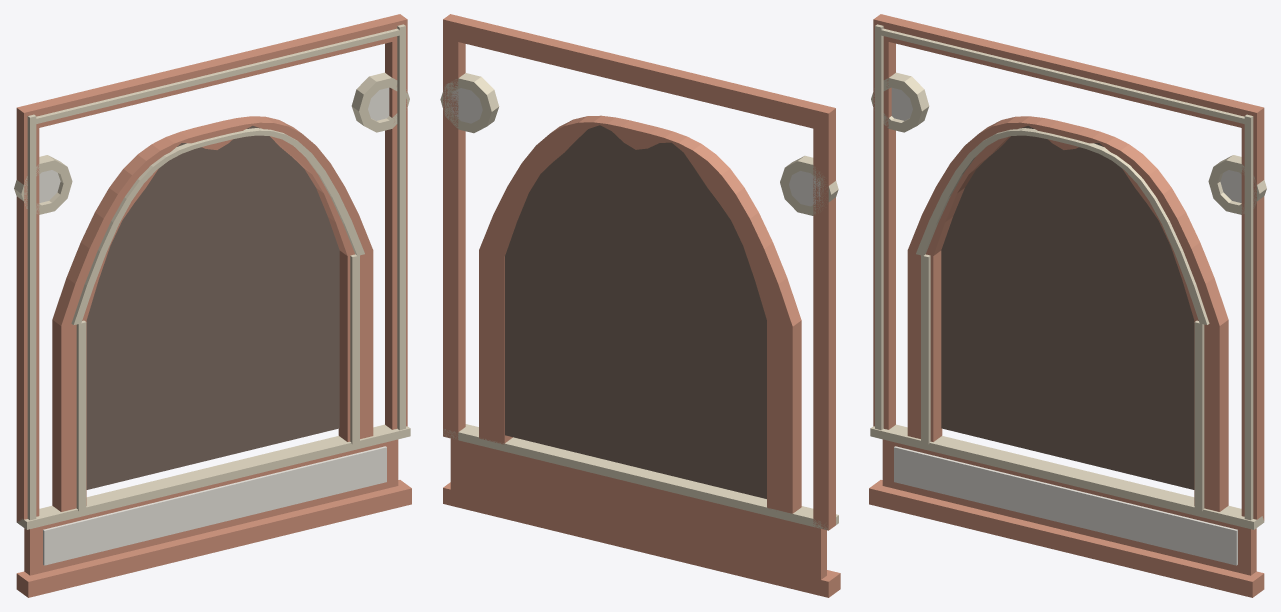
Rendered from kit_niche.glb.
The picture shows the model from 3 angles, left to right: view 1: azimuth 30°, elevation 25°; view 2: azimuth 150°, elevation 25°; view 3: azimuth 330°, elevation 25°; orthographic projection.
Visible parts, largest first — view 1: kit_niche; view 2: kit_niche; view 3: kit_niche.
Boxes of the visible parts, left/top/right/bottom form: kit_niche: left=14, top=14, right=411, bottom=597; kit_niche: left=440, top=14, right=840, bottom=597; kit_niche: left=869, top=14, right=1266, bottom=597.
Bounding box in the file's own units: 3.04 × 3.6 × 0.16.
